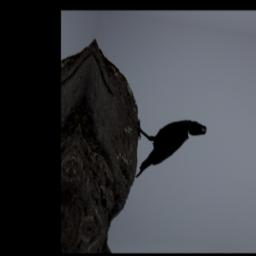Crow: (128, 111, 209, 189)
